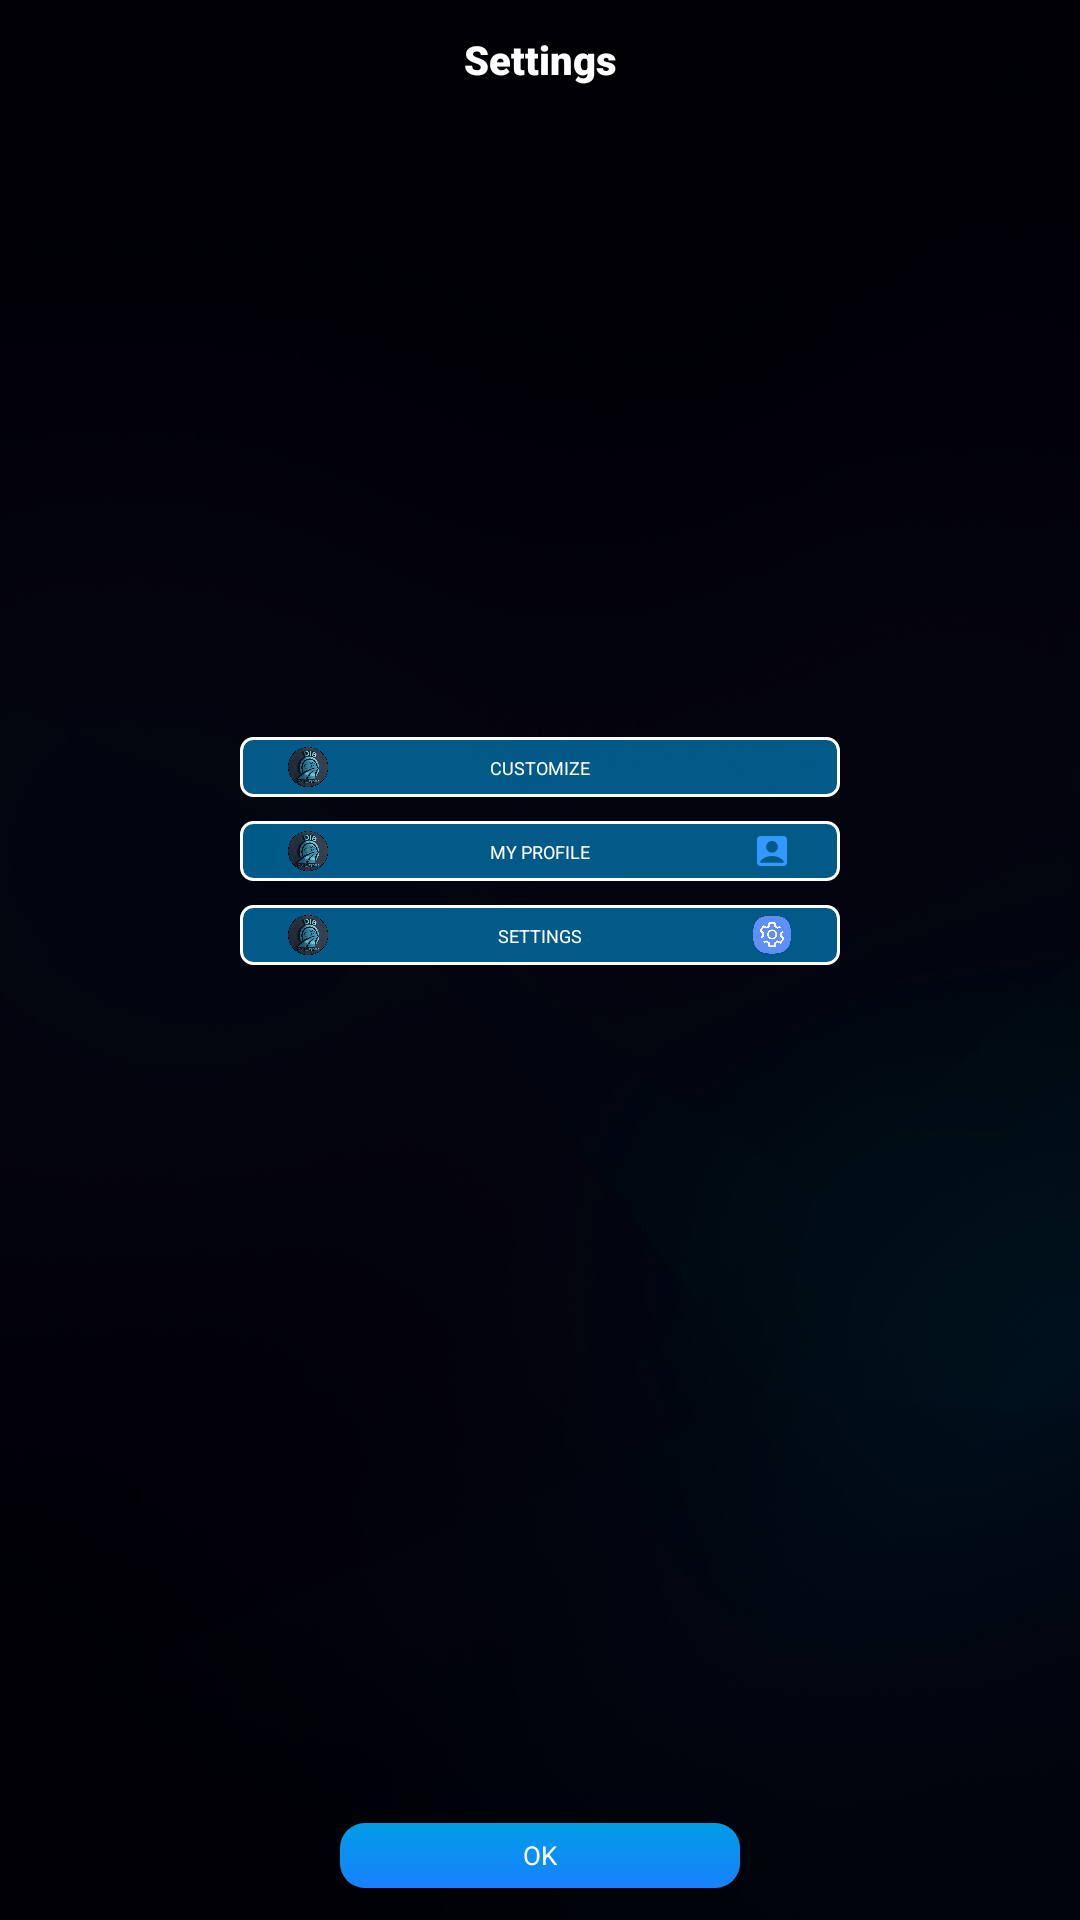

Icons on this 1080px x 1920px Android screen, each with its box as [x1, y1, x2, y2]:
account box: [757, 836, 787, 866]
